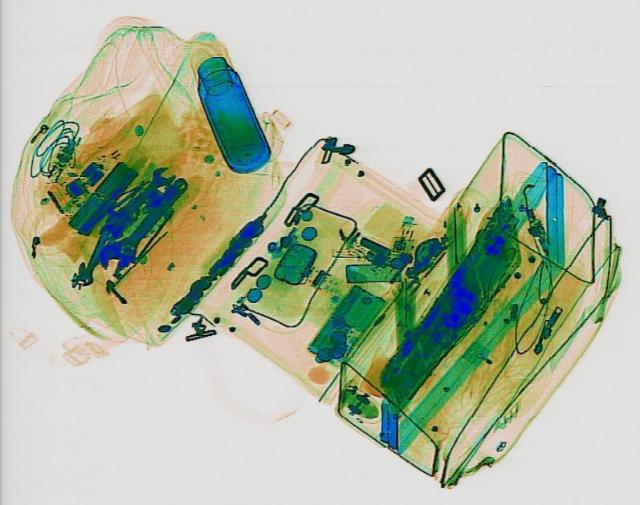Wrench: (84, 170, 202, 277), (83, 162, 177, 238)
